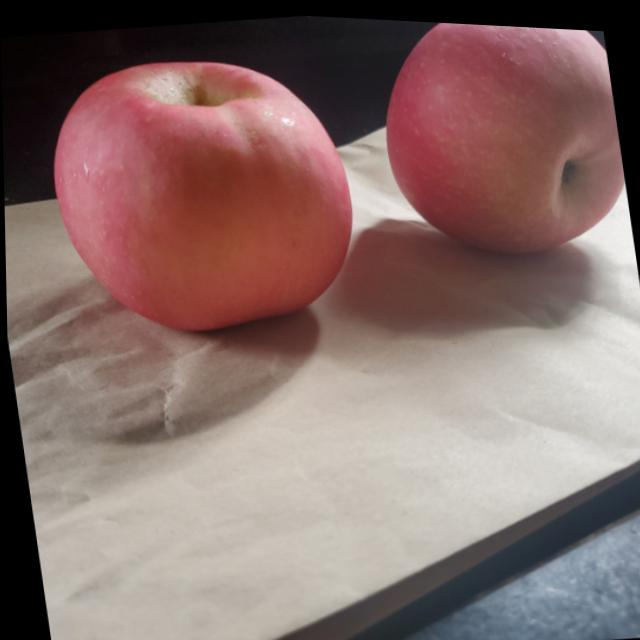apple: (41, 33, 371, 347), (367, 15, 633, 267)
